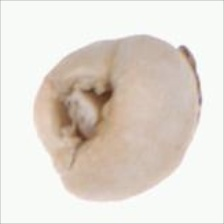L3: (50, 74, 115, 156)
L4: (33, 35, 202, 201)
